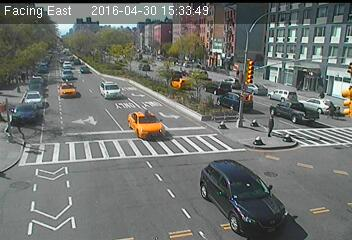neg: (18, 186, 44, 220), (192, 106, 214, 136), (321, 98, 342, 126), (70, 103, 91, 130), (40, 117, 61, 144), (236, 53, 257, 80), (36, 60, 56, 86), (239, 124, 258, 150), (227, 173, 246, 199), (106, 195, 125, 221), (273, 140, 292, 165), (87, 153, 106, 178), (18, 104, 35, 127), (159, 161, 176, 183), (170, 48, 187, 70), (143, 102, 159, 124), (70, 59, 84, 78), (22, 149, 35, 165)
pos: (260, 109, 282, 139)
